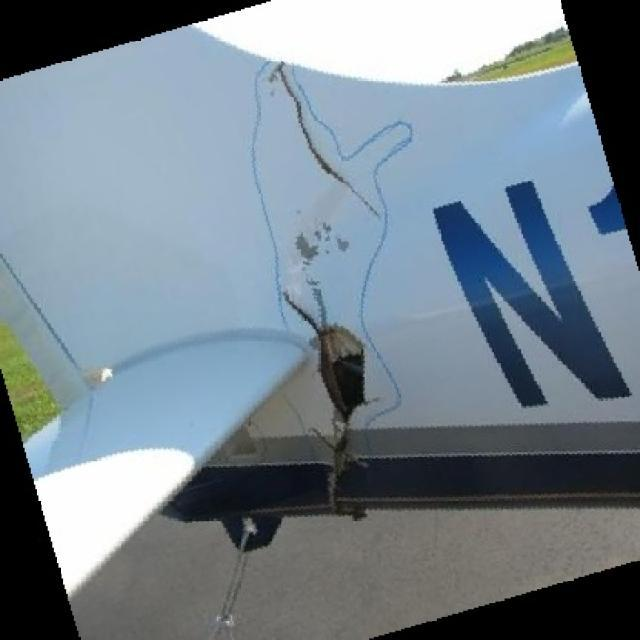crack: (270, 76, 375, 218)
